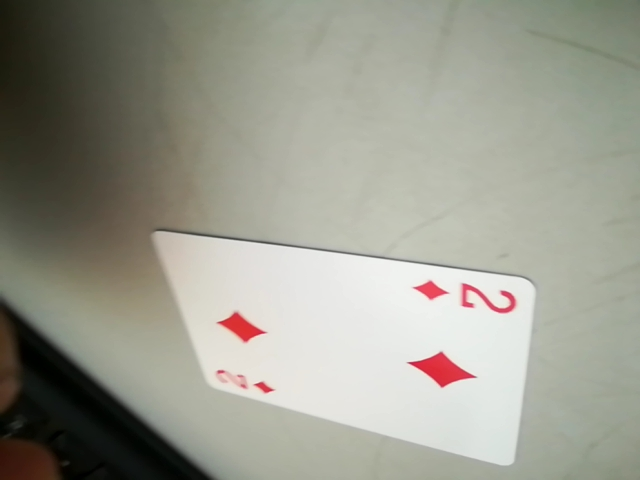fk 2: (411, 276, 526, 320), (207, 363, 281, 401)
